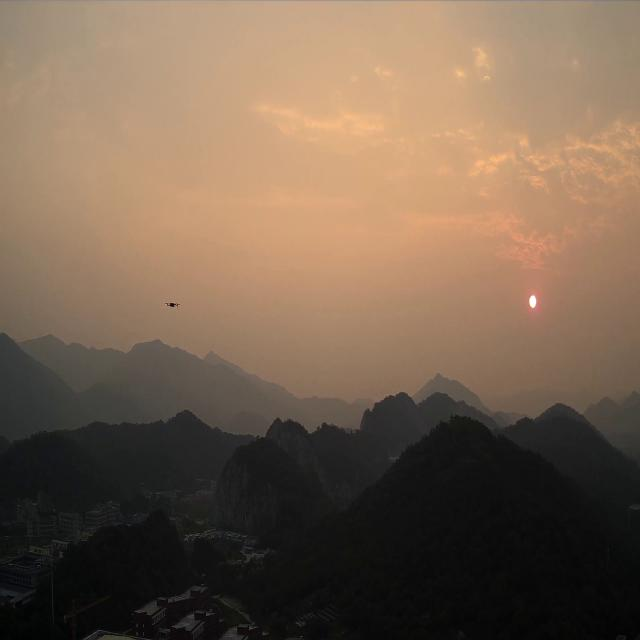drone: (164, 300, 181, 309)
